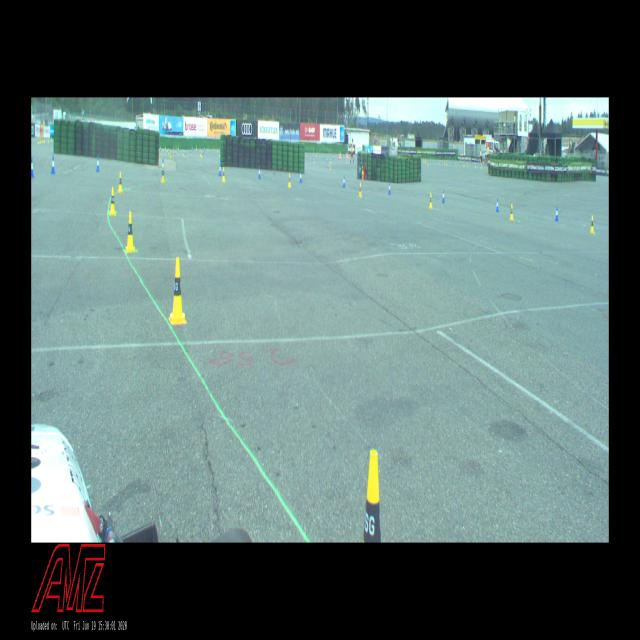blue_cone: (51, 156, 56, 174), (31, 158, 35, 178), (96, 156, 100, 172), (219, 164, 222, 176), (496, 199, 499, 211), (388, 183, 391, 195), (442, 191, 445, 203), (258, 168, 261, 178), (162, 160, 164, 173), (556, 208, 558, 220), (300, 171, 302, 183), (343, 176, 345, 188)
yellow_cone: (364, 449, 381, 542), (169, 258, 186, 324), (126, 211, 136, 252), (110, 187, 116, 216), (118, 172, 123, 193), (590, 216, 594, 233), (510, 204, 513, 220), (429, 193, 432, 209), (359, 183, 362, 198), (222, 167, 225, 182), (288, 173, 291, 187), (162, 168, 165, 182)
